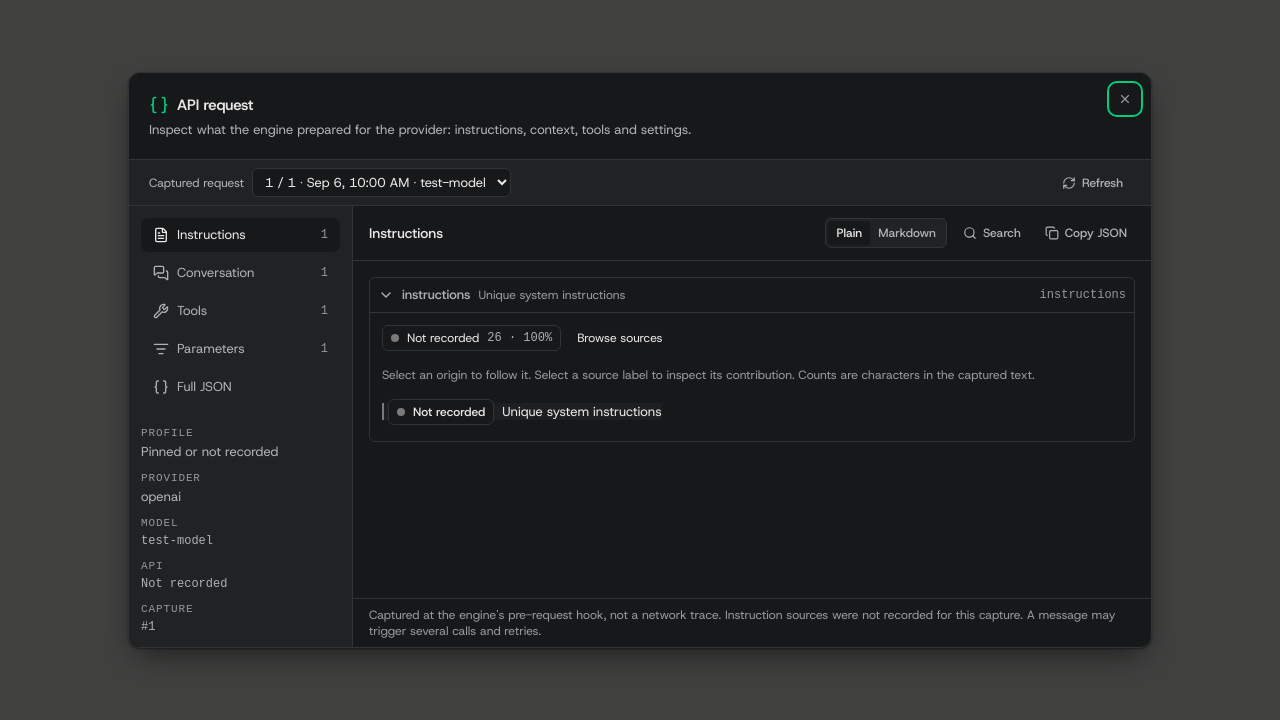
keeps request-field disclosures focusable and independently toggleable
Click the button "instructions Unique system instructions instructions". click: (436, 294)
box: [370,278,1134,312]
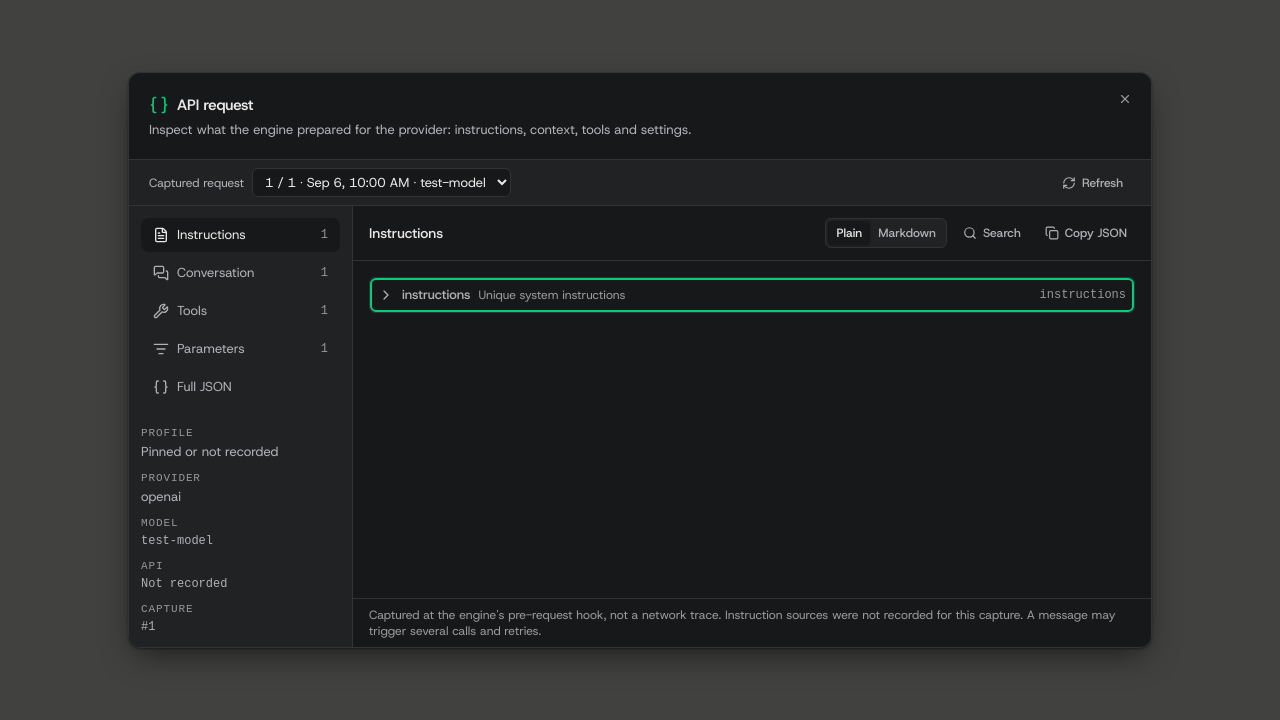
expect the button "instructions Unique system instructions instructions" is collapsed: met
Click the button "instructions Unique system instructions instructions". click: (436, 294)
box: [370,278,1134,312]
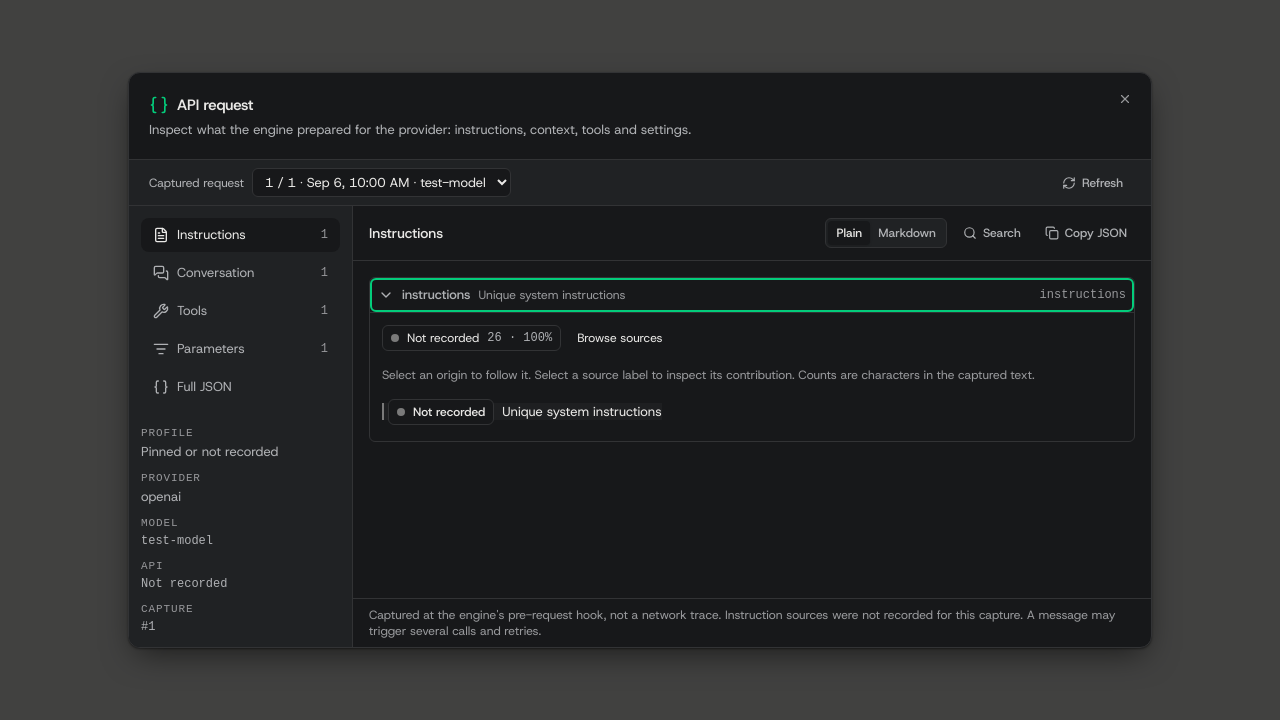
expect the button "instructions Unique system instructions instructions" is expanded: met, box [370,278,1134,312]
